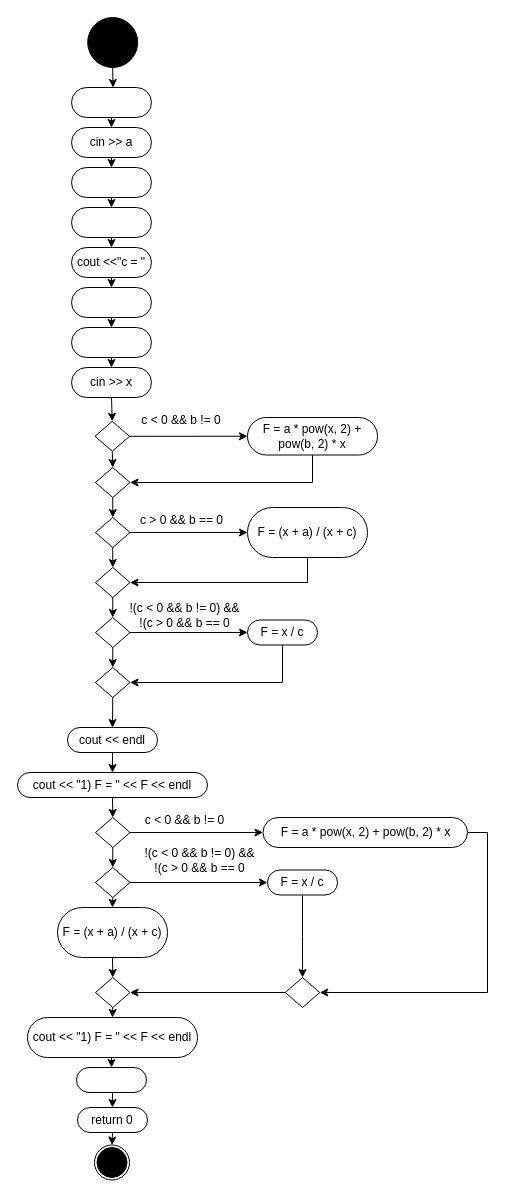
This 513x1198 diagram has some shape labels left out. Each missing label, with the centre of its shape:
cin >> b: [111,222]
cin >> c: [111,302]
cin.get(): [111,1079]
cout <<"a = ": [111,102]
cout <<"b = ": [111,182]
cout <<"x = ": [111,342]
